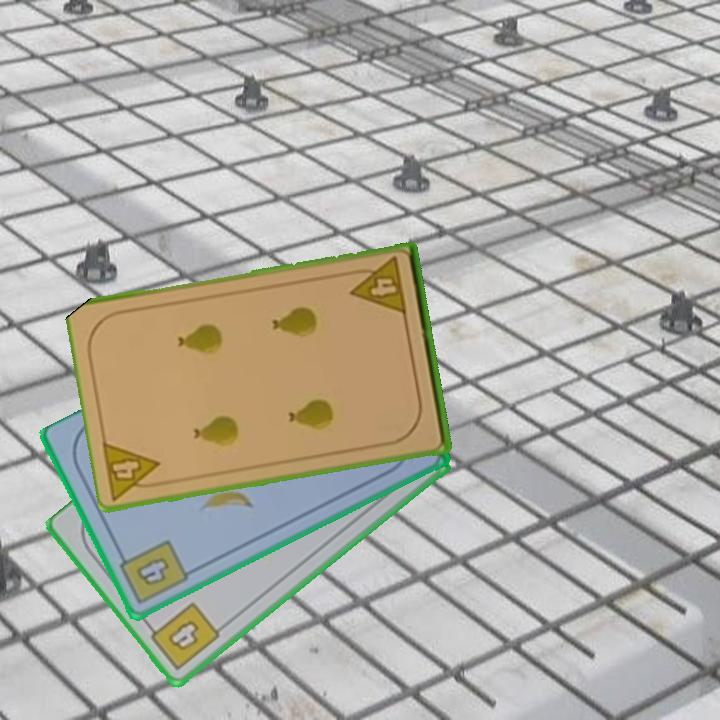4b: (142, 598, 223, 674), (114, 536, 192, 608)
4p: (99, 438, 168, 503), (345, 254, 410, 319)
